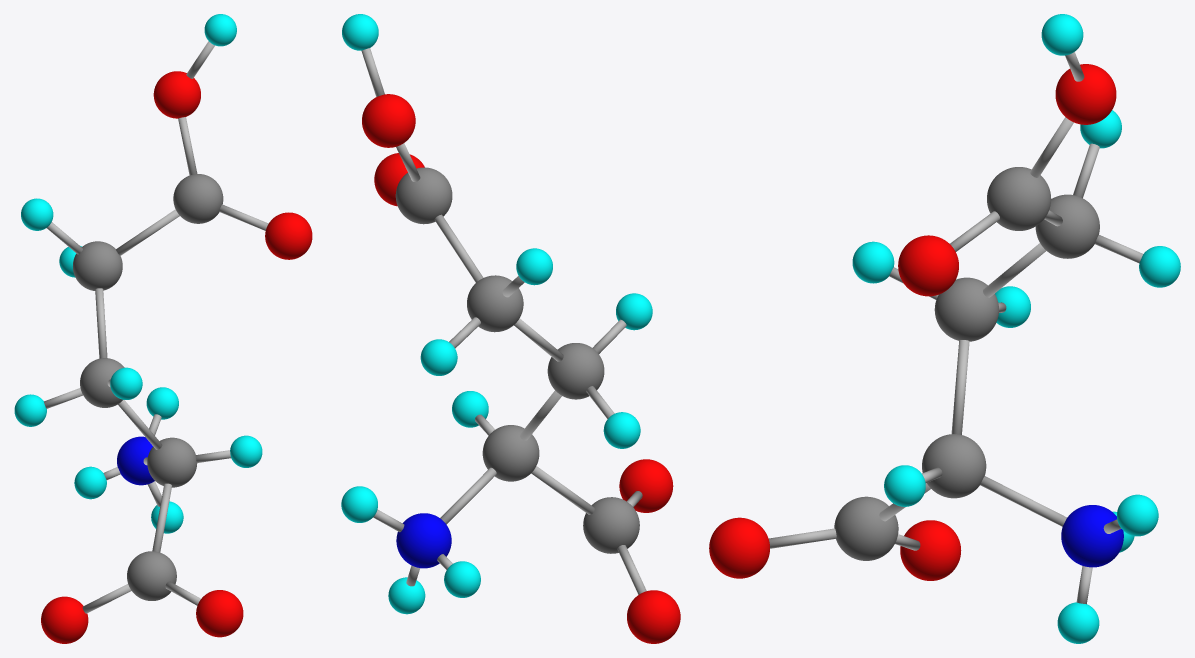
File: L-galacic-acid.glb
The picture shows the model from 3 angles, left to right: view 1: azimuth 30°, elevation 25°; view 2: azimuth 150°, elevation 25°; view 3: azimuth 270°, elevation 25°; orthographic projection. The views are drawn at different scales.
Parts seen in each view (by area): view 1: CMAtom_2; view 2: CMAtom_2; view 3: CMAtom_2.
Boxes of the visible parts, <box> form: CMAtom_2: <box>14,14,312,643</box>; CMAtom_2: <box>341,14,680,643</box>; CMAtom_2: <box>709,14,1180,643</box>.
Bounding box in the file's own units: 0.3762 × 0.7319 × 0.4518.
